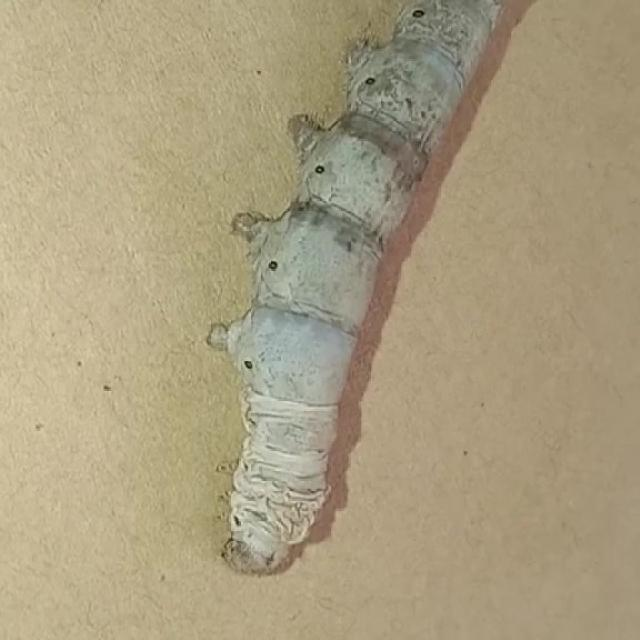Grasserie: (192, 1, 520, 594)
